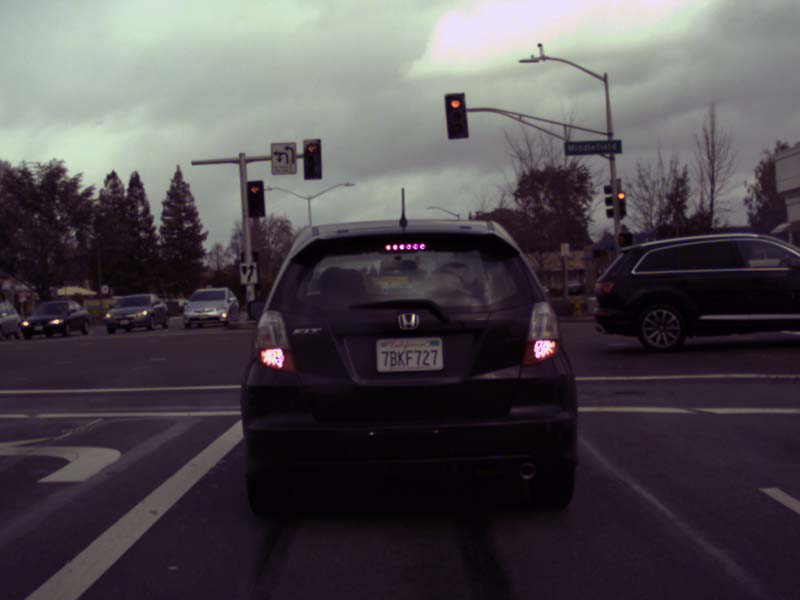Red: (447, 97, 464, 136), (303, 139, 320, 178), (247, 181, 264, 216), (617, 192, 625, 216)
